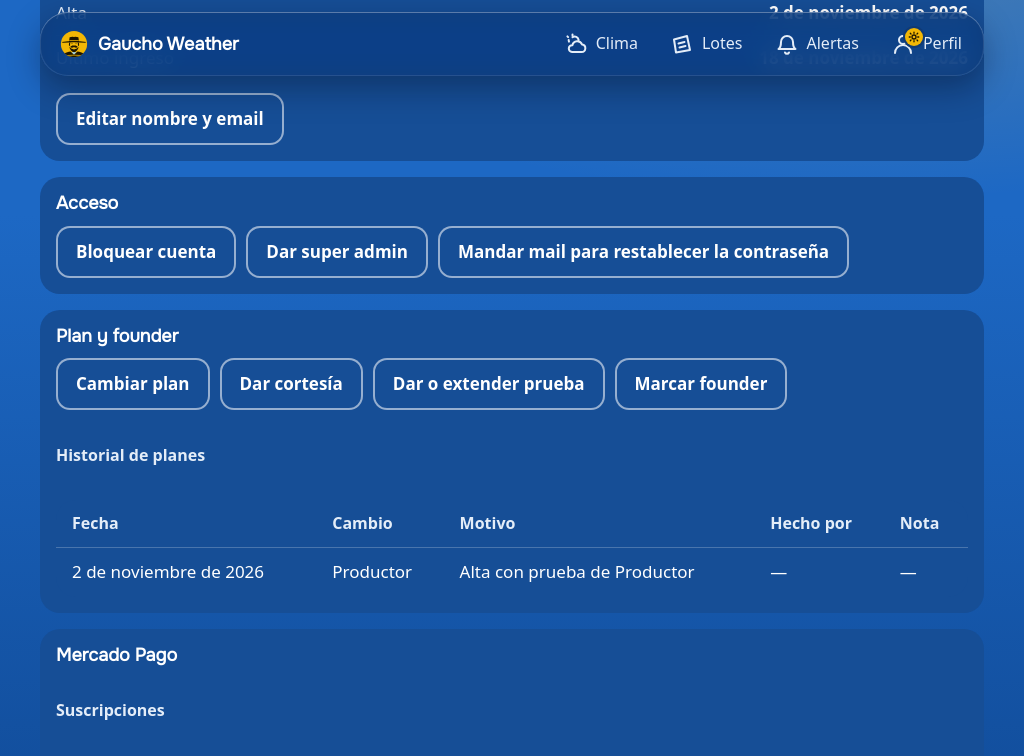
Test: The plan change only goes down (S5) › offers only Básico to an account that is not a founder
(page scrolled)
Click the button "Cambiar plan" at (133, 384), box [56,358,210,410]
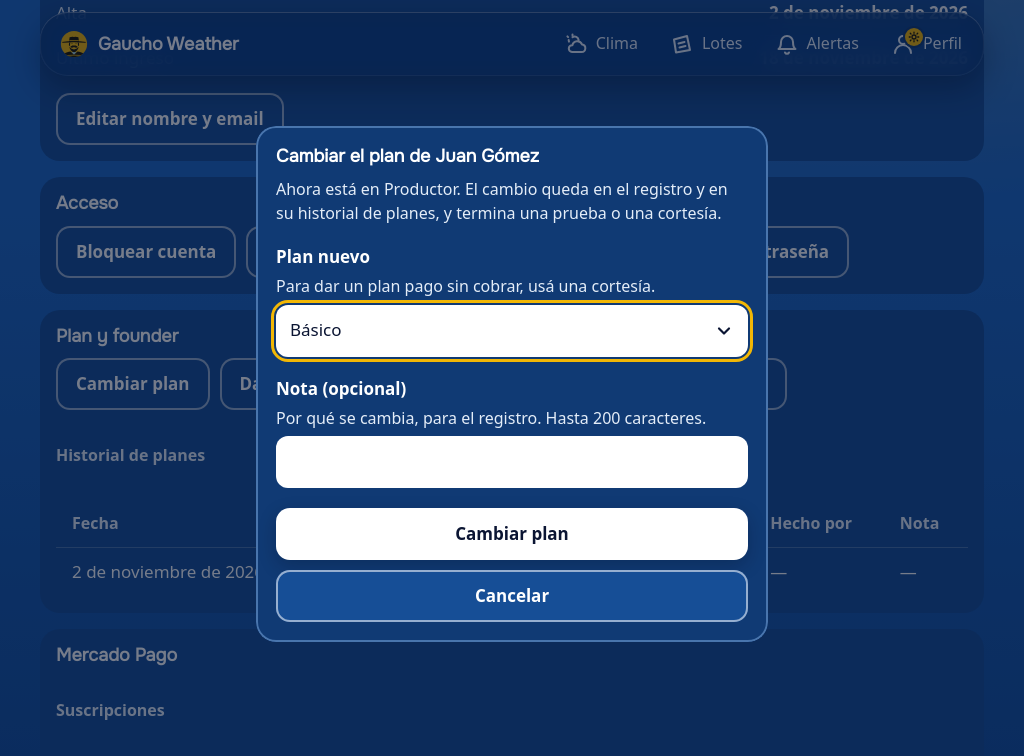
Expected: the dialog "Cambiar el plan de Juan Gómez" shows "Para dar un plan pago sin cobrar, usá una cortesía.", [276,275,655,297]
